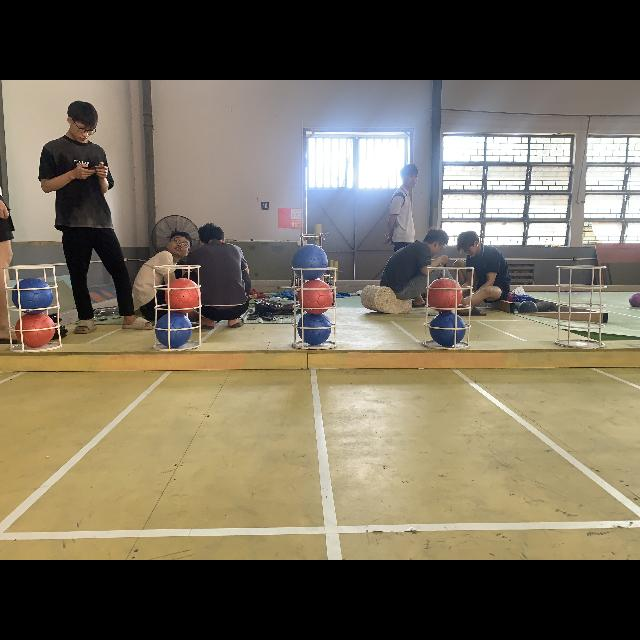B: (12, 277, 54, 313), (292, 244, 328, 280), (429, 312, 466, 346), (296, 312, 332, 346), (156, 314, 192, 346)
R: (16, 314, 56, 346), (166, 279, 202, 313), (298, 280, 334, 314), (428, 278, 462, 312)
